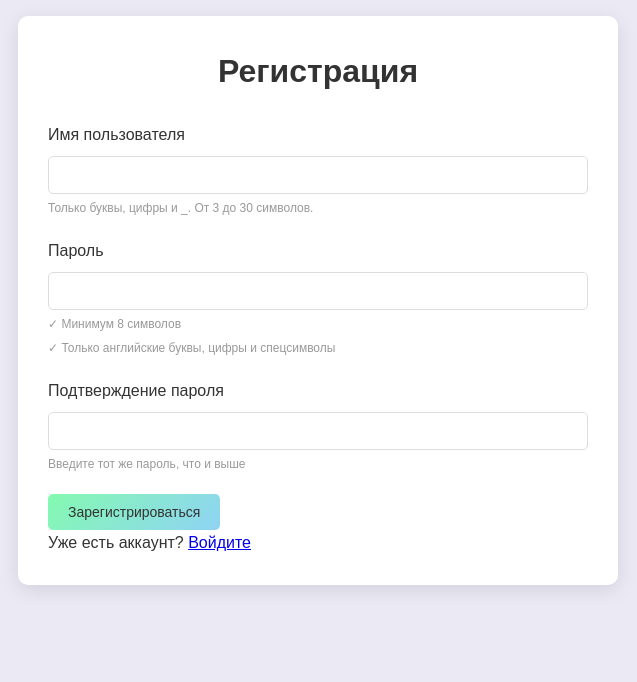
Test: RegisterPage › показывает ошибку при коротком имени пользователя
Type "te" into the field with test id "username-input".
click(318, 175); type("te")  # box [48,156,588,194]
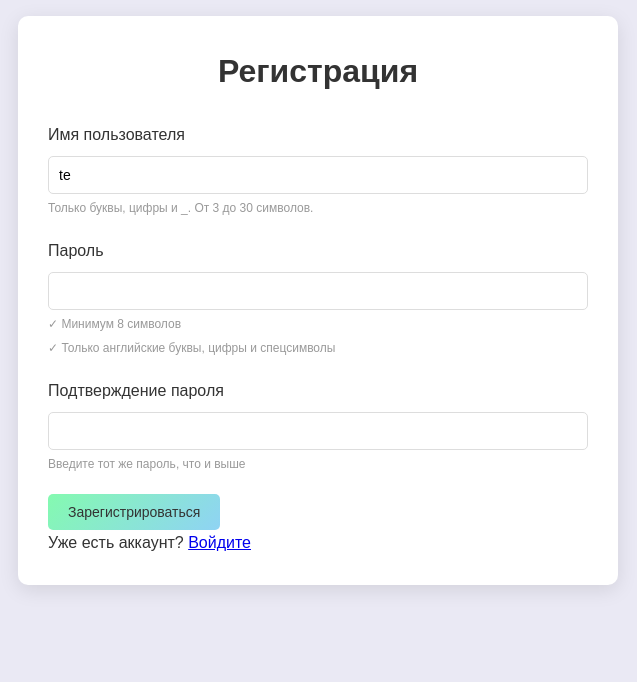
Type "Test123!" into the password field with test id "password1-input".
click(318, 291); type("Test123!")  # box [48,272,588,310]
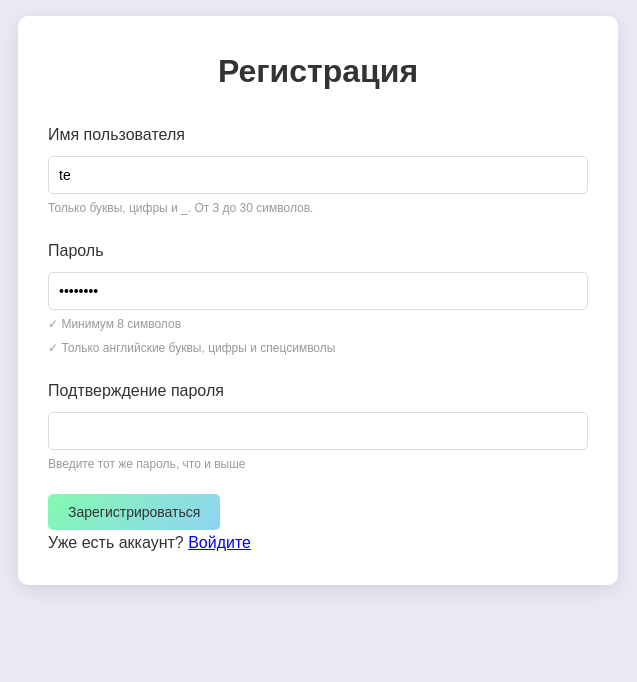
Type "Test123!" into the password field with test id "password2-input".
click(318, 430); type("Test123!")  # box [48,412,588,450]
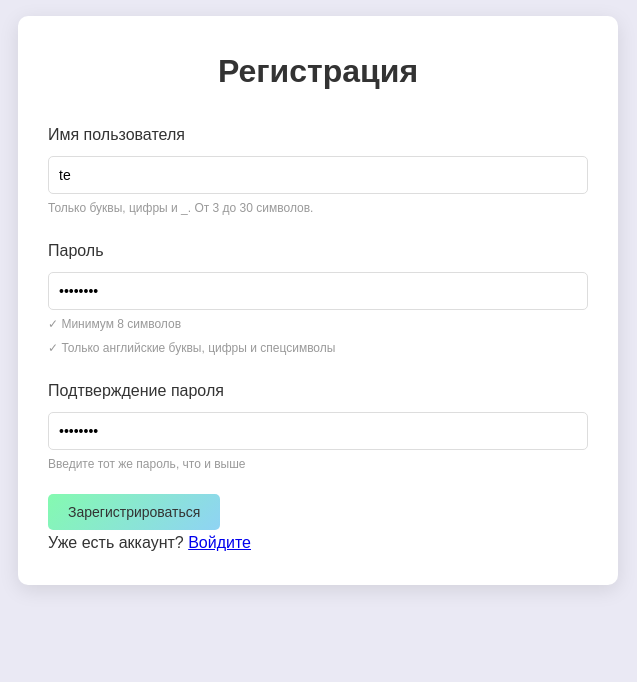
Click the button "Зарегистрироваться".
click(134, 512)  # box [48,494,220,530]
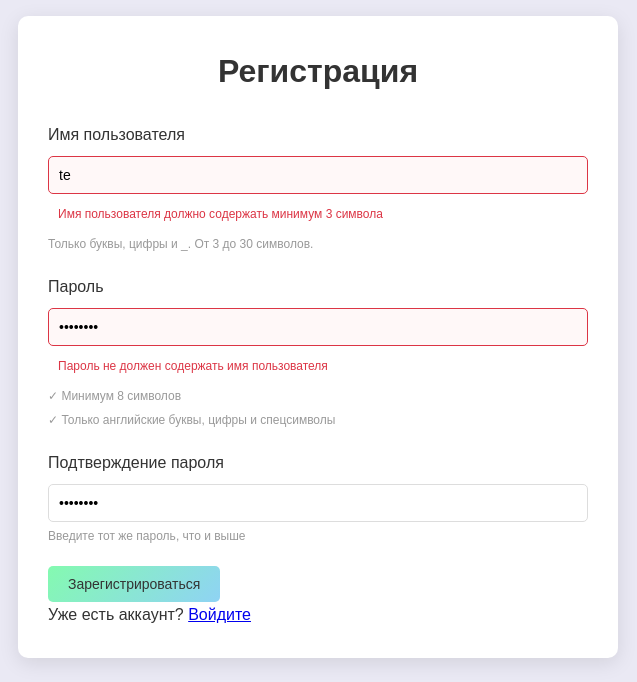
expect the text "Имя пользователя должно содержать минимум 3 символа" is shown: met, box [58,207,383,221]
